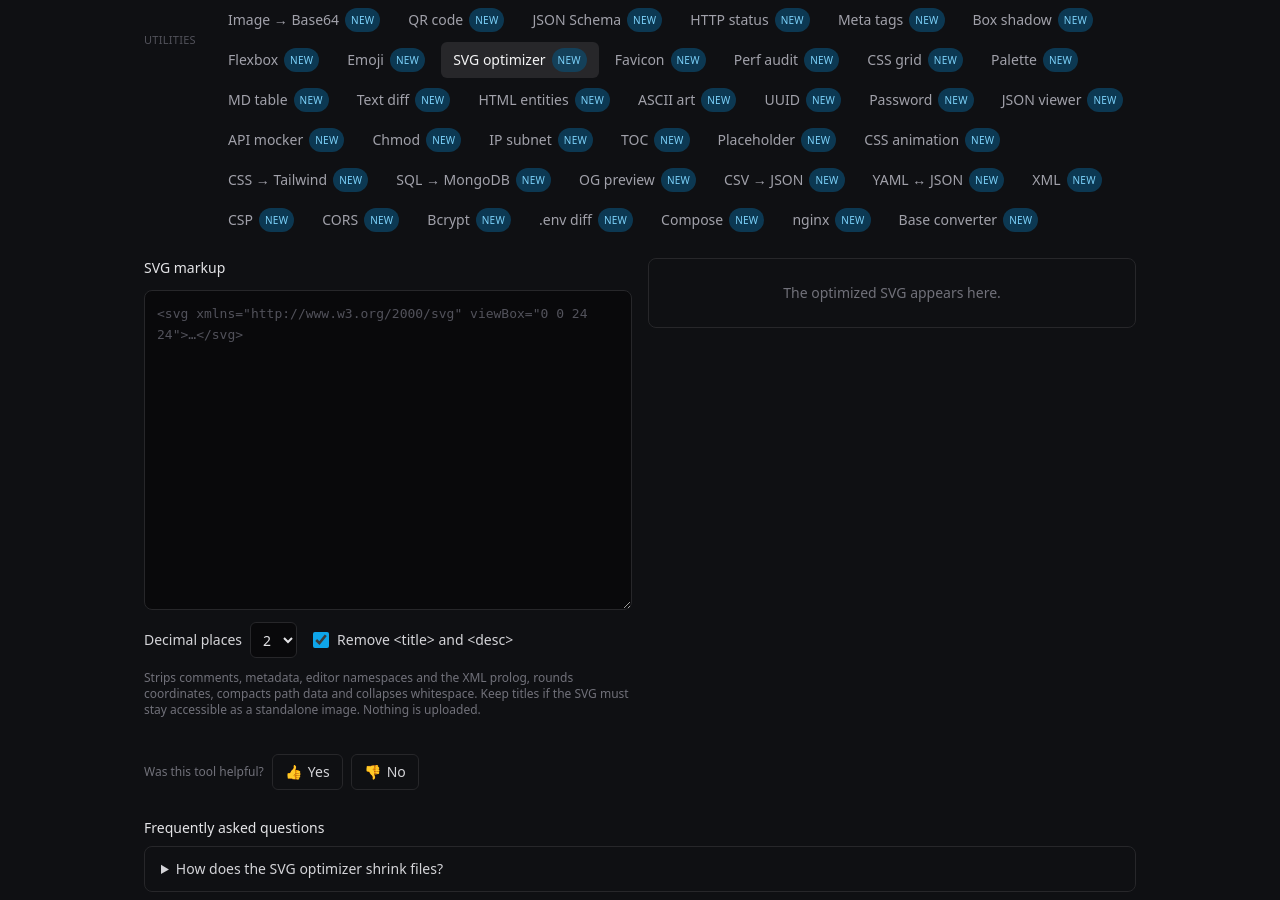
Scenario: SvgOptimizerPage › reports invalid SVG
This screenshot has width=1280, height=900.
(page scrolled)
Replace the text in the text box with test id "svg-input" with "<p>nope</p>": (388, 450) [144,290,632,610]
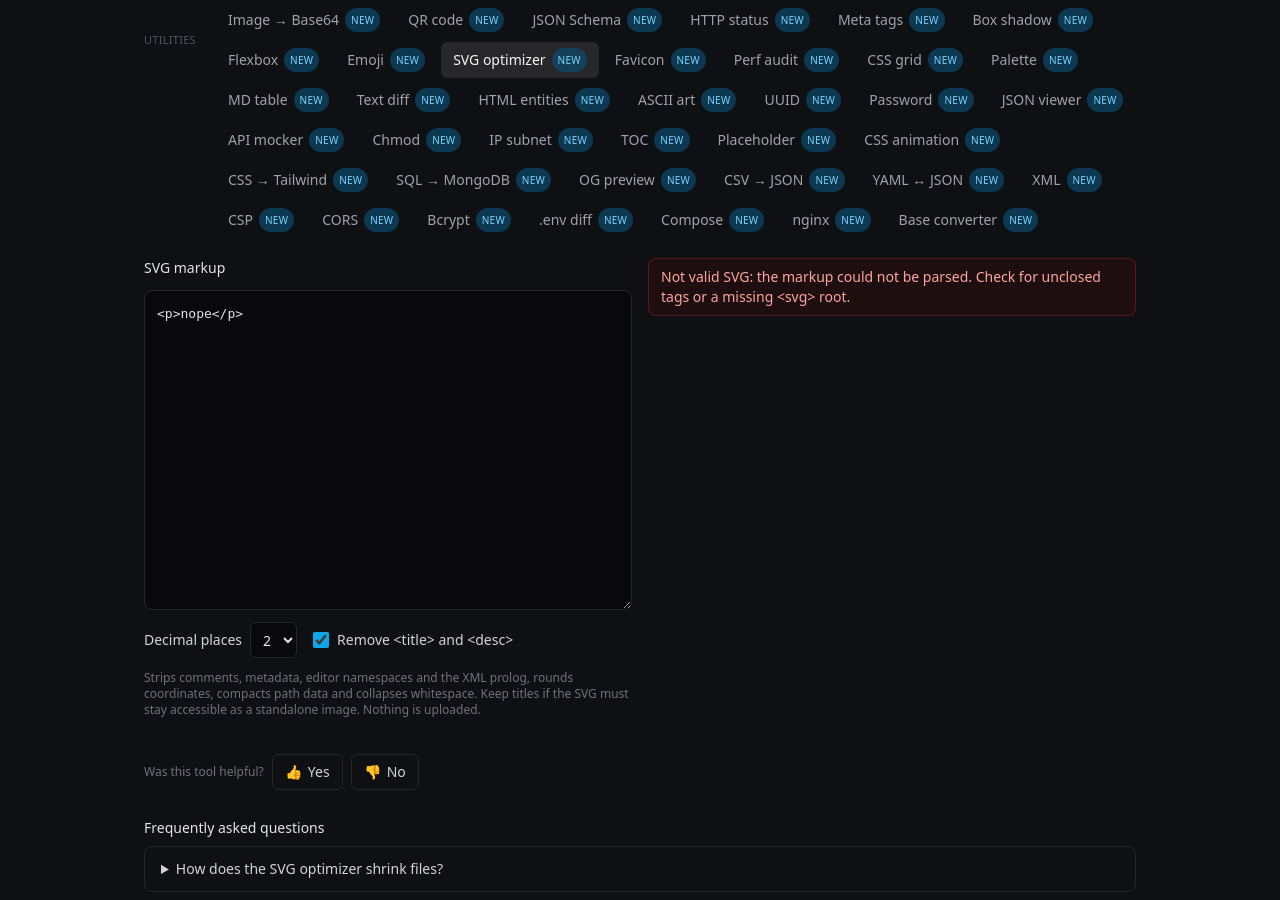
Check: the message with test id "svg-error" shows "Not valid SVG", box [661,267,1101,306]
